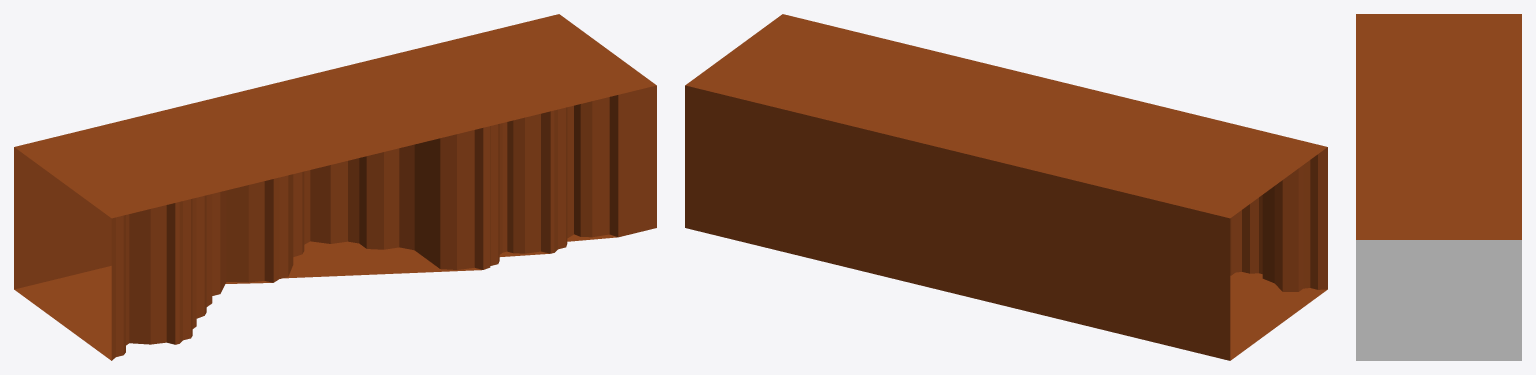
The model's file is A11 N Mountain.obj.
3 renders of one model, left to right at view 1: azimuth 30°, elevation 25°; view 2: azimuth 150°, elevation 25°; view 3: azimuth 270°, elevation 25°, orthographic. The views are drawn at different scales.
Parts seen in each view (by area): view 1: Mesh1 A11_N_Mountain1 Model; view 2: Mesh1 A11_N_Mountain1 Model; view 3: Mesh1 A11_N_Mountain1 Model.
Part boxes in pixels (x1,y1,x2,y2): Mesh1 A11_N_Mountain1 Model: (14,14,656,360); Mesh1 A11_N_Mountain1 Model: (685,14,1327,360); Mesh1 A11_N_Mountain1 Model: (1356,14,1521,360).
Bounding box in the file's own units: 16.01 × 4 × 4.96.
